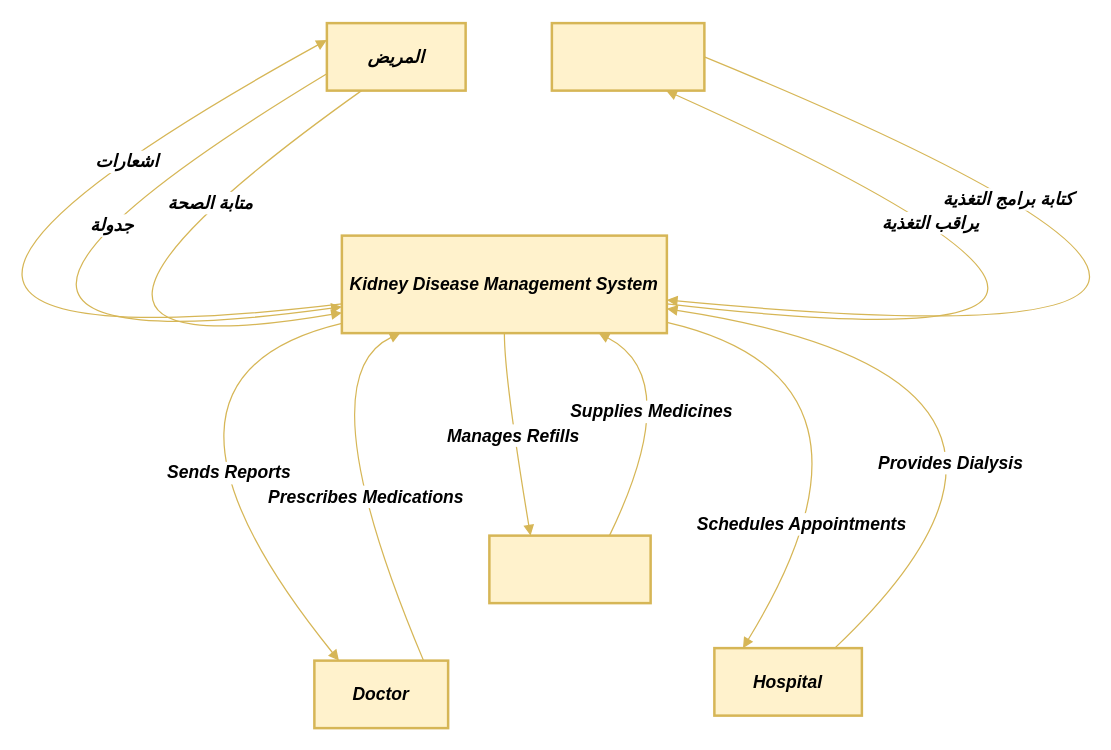
Some shapes in this 1111 by 750 pixel diagram are drawn without their labels. The box of each missing label's shape, as (x1, y1, x2, y2) in pixels:
Pharmacy: (488, 534, 651, 604)
اختصاصي تغذية: (550, 21, 705, 91)
